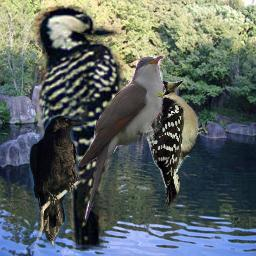Crow: (29, 115, 89, 249)
Cuckoo: (77, 55, 165, 223)
Woodpecker: (31, 0, 162, 252), (138, 77, 219, 209)
